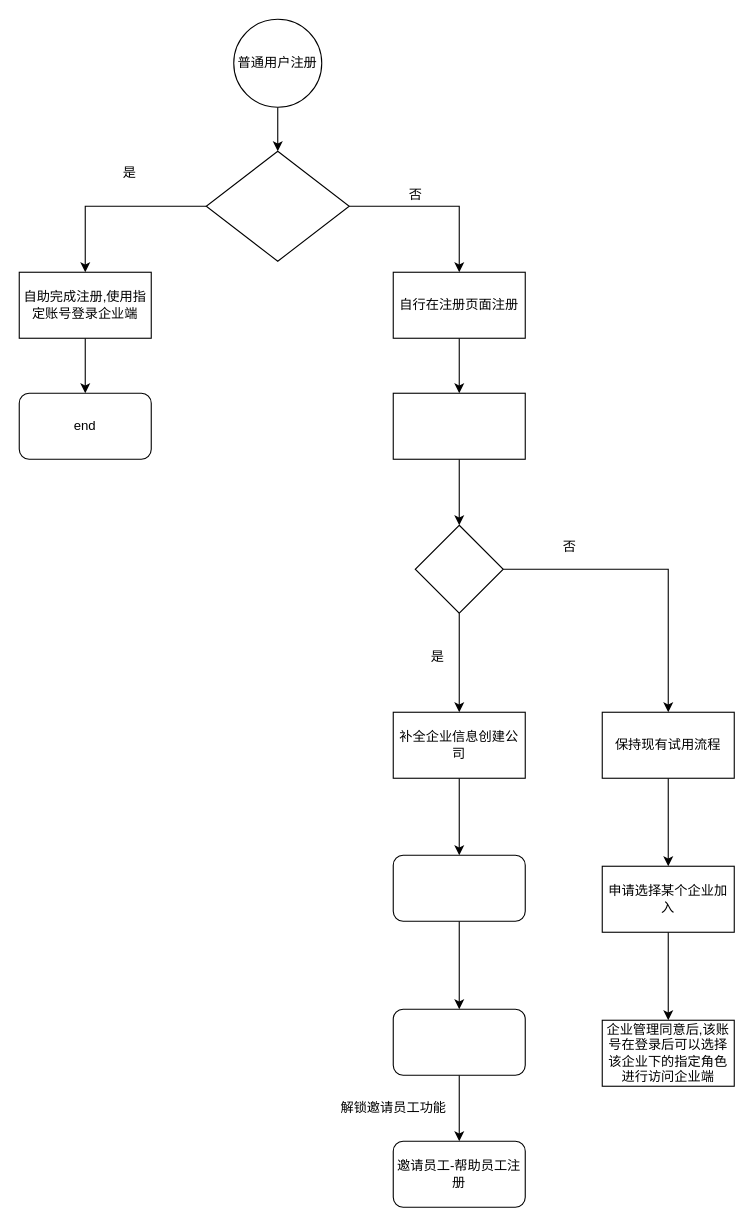
The diagram is 754 pixels wide and 1227 high, and some of its shapes have lost their labels. The centre of each missing label's shape, as x and y in pixels:
创建公司: the point at 458,568
创建完成,企业处于非激活状态 成为企业管理员: the point at 458,887
注册完成可正常试用: the point at 458,425
补全营业执照等工商信息以激活企业: the point at 458,1041
被企业管理员邀请?: the point at 277,205
